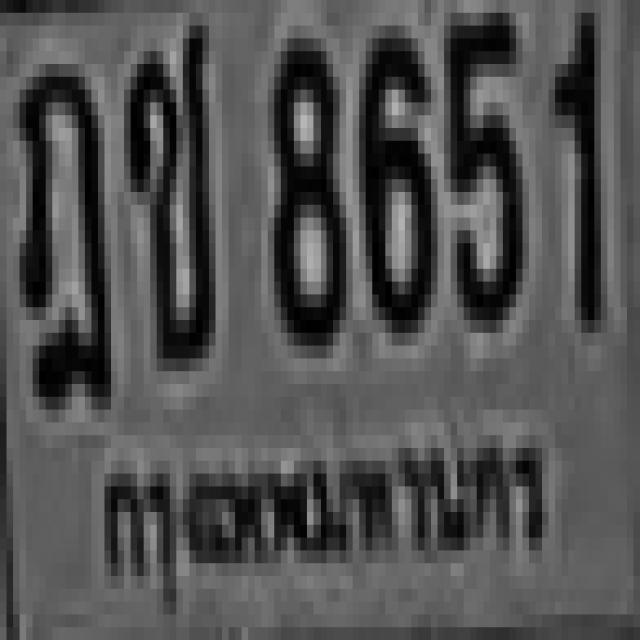1: (549, 0, 594, 320)
19ChorChang: (124, 13, 209, 358)
23DorChaDa: (16, 51, 108, 397)
5: (444, 0, 516, 320)
6: (356, 13, 428, 320)
8: (268, 25, 340, 332)
Bangkok: (90, 419, 555, 589)
